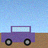vehicle: (1, 26, 35, 45)
